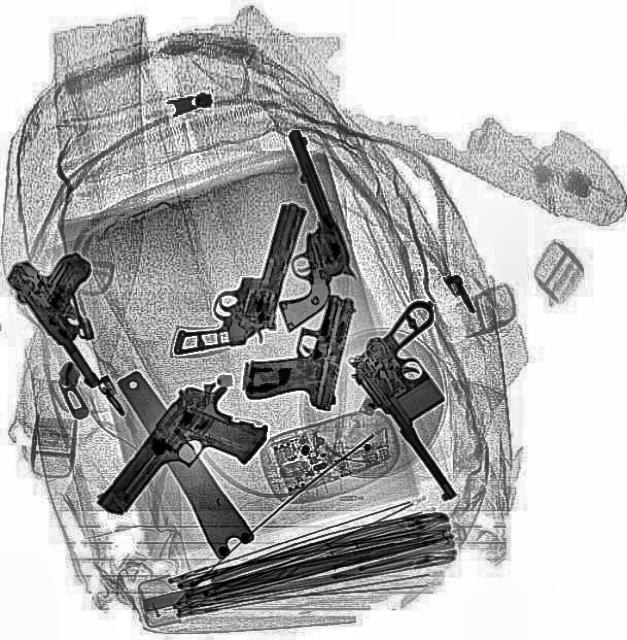Gun: (335, 296, 531, 502), (92, 363, 280, 555), (216, 126, 372, 332), (170, 184, 306, 372), (0, 237, 150, 389), (238, 281, 356, 415)
